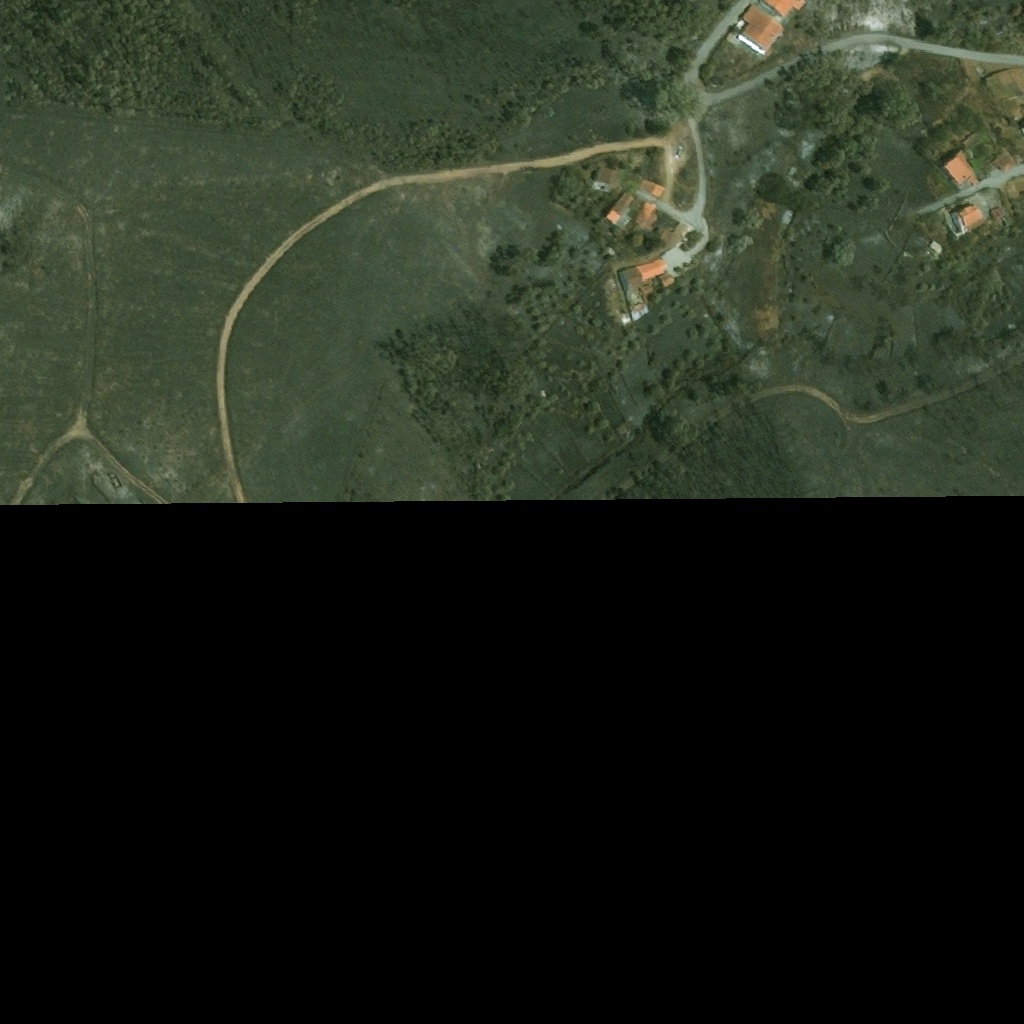0 no-damage: (741, 3, 786, 52), (942, 150, 986, 187), (608, 192, 638, 230), (951, 201, 985, 234), (594, 167, 626, 192), (765, 0, 809, 18), (638, 201, 662, 231), (643, 180, 666, 197), (994, 152, 1013, 170), (660, 273, 676, 286)
1 minor-damage: (619, 257, 669, 293)
4 un-classified: (666, 243, 696, 274), (630, 304, 653, 321), (929, 240, 948, 256)
